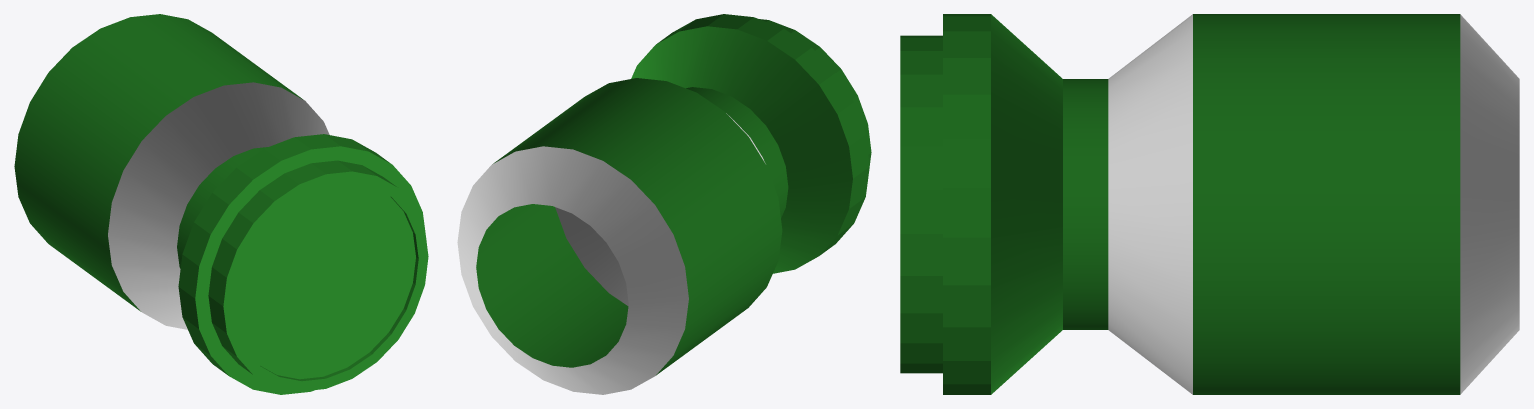
The model's file is model_scale.obj.
3 views of the same model, side by side, from view 1: azimuth 30°, elevation 25°; view 2: azimuth 150°, elevation 25°; view 3: azimuth 270°, elevation 25° (orthographic). The views are drawn at different scales.
Visible parts, largest first — view 1: mesh1_mesh1-geometry; view 2: mesh1_mesh1-geometry; view 3: mesh1_mesh1-geometry.
Part boxes in pixels (x1,y1,x2,y2): mesh1_mesh1-geometry: (14,14,428,394); mesh1_mesh1-geometry: (457,14,871,394); mesh1_mesh1-geometry: (900,14,1519,394).
Size of the model in its own units: 0.1208 by 0.1208 by 0.1956.
